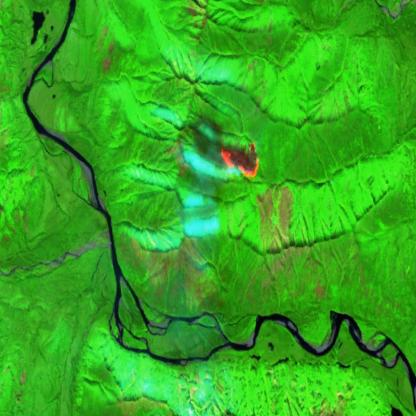fire: (219, 136, 264, 181)
